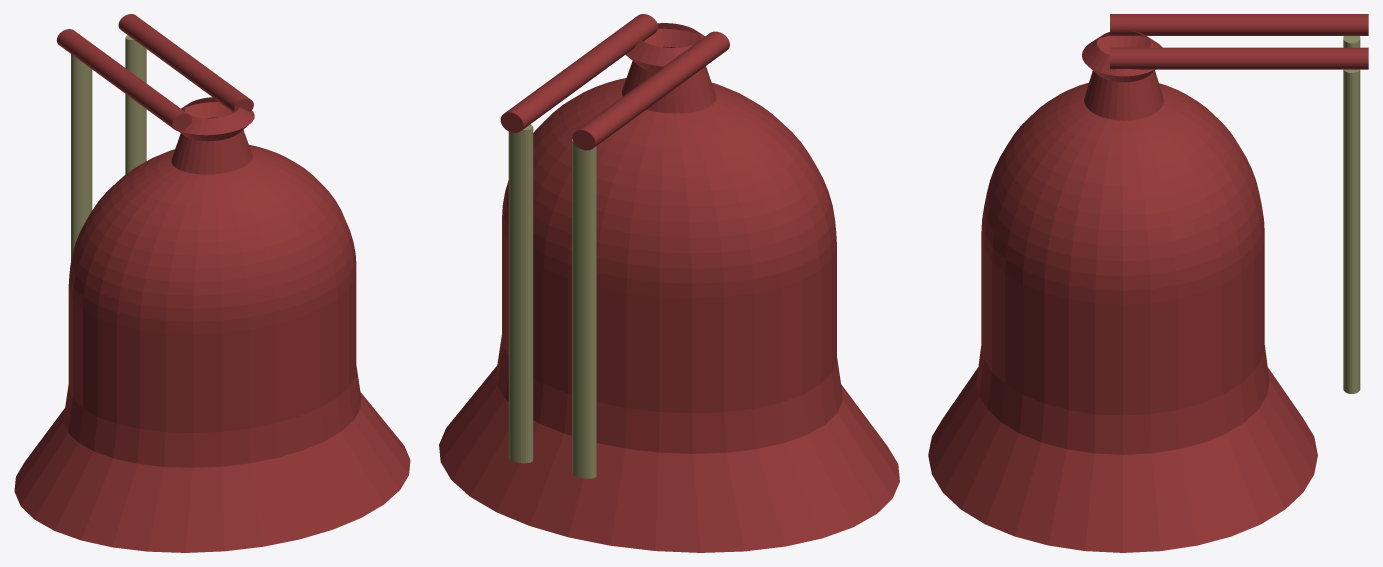
File: mr-dome-detail.dae
3 views of the same model, side by side, from view 1: azimuth 30°, elevation 25°; view 2: azimuth 150°, elevation 25°; view 3: azimuth 270°, elevation 25° (orthographic). The views are drawn at different scales.
Parts seen in each view (by area): view 1: Sphere_001, Cylinder_006, Cylinder_021, Cylinder_023, Cylinder_022, Cylinder_015; view 2: Sphere_001, Cylinder_015, Cylinder_021, Cylinder_023, Cylinder_022, Cylinder_006; view 3: Sphere_001, Cylinder_022, Cylinder_015, Cylinder_023, Cylinder_006.
Boxes of the visible parts, box(x1,y1,x2,y2) form: Sphere_001: box(14, 144, 410, 552); Cylinder_006: box(171, 97, 254, 174); Cylinder_021: box(71, 54, 92, 260); Cylinder_023: box(56, 29, 191, 131); Cylinder_022: box(118, 14, 253, 112); Cylinder_015: box(125, 35, 146, 174); Sphere_001: box(439, 78, 899, 552); Cylinder_015: box(508, 124, 533, 463); Cylinder_021: box(572, 139, 596, 478); Cylinder_023: box(572, 31, 729, 150); Cylinder_022: box(500, 14, 657, 132); Cylinder_006: box(621, 23, 716, 113); Sphere_001: box(928, 82, 1317, 552); Cylinder_022: box(1110, 47, 1368, 69); Cylinder_015: box(1343, 69, 1360, 393); Cylinder_023: box(1110, 14, 1368, 35); Cylinder_006: box(1082, 30, 1163, 120).
Bounding box in the file's own units: 0.8275 × 0.7902 × 0.8316.
